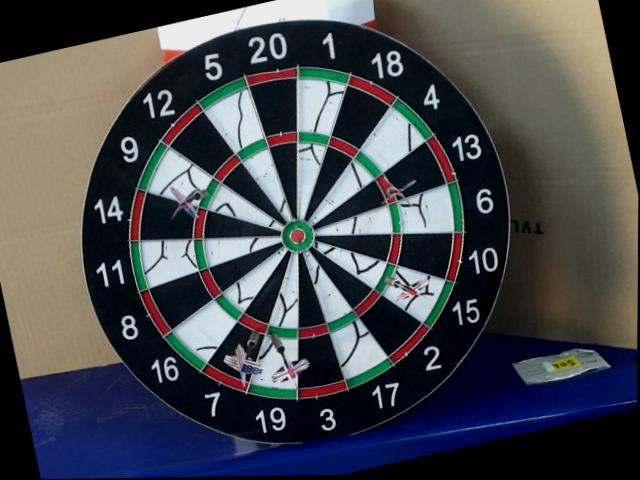triple_13: (375, 175, 404, 204)
triple_15: (376, 265, 396, 293)
triple_9: (196, 180, 222, 211)
